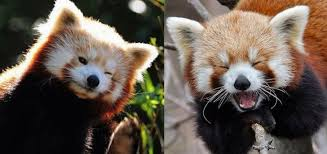redPanda: (168, 6, 323, 151)
